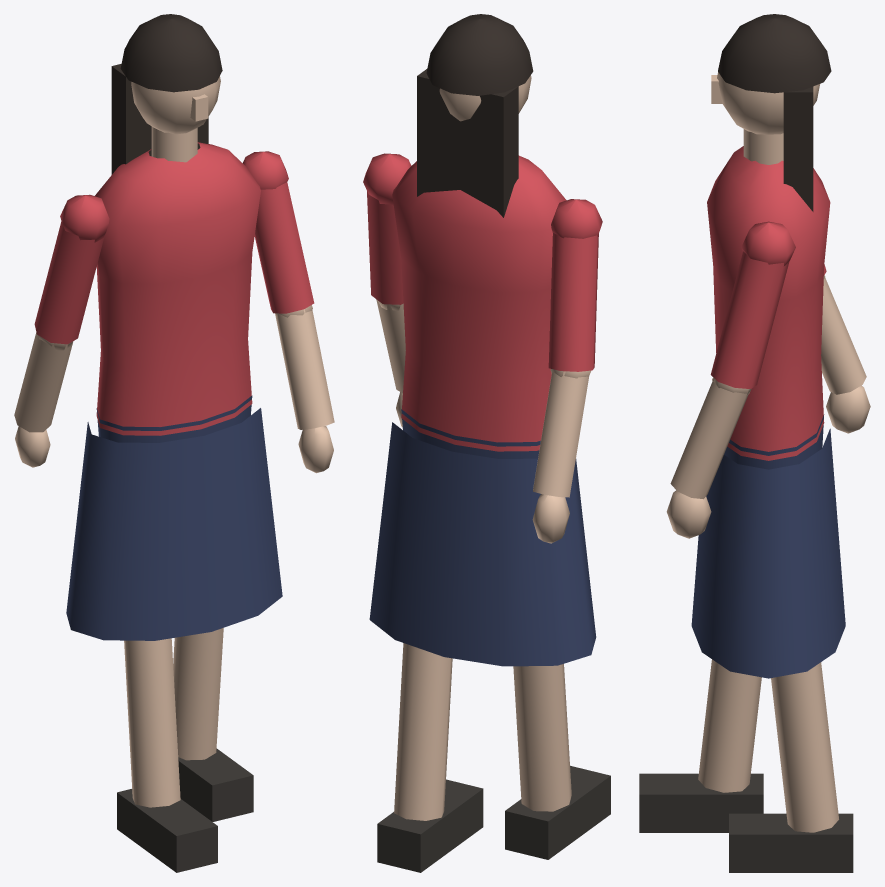
File: person_b.glb
The picture shows the model from 3 angles, left to right: view 1: azimuth 30°, elevation 25°; view 2: azimuth 150°, elevation 25°; view 3: azimuth 270°, elevation 25°; orthographic projection. The views are drawn at different scales.
Parts seen in each view (by area): view 1: person; view 2: person; view 3: person.
Boxes of the visible parts, left/top/right/bottom form: person: left=14, top=14, right=334, bottom=872; person: left=363, top=14, right=610, bottom=872; person: left=639, top=14, right=870, bottom=872.
Bounding box in the file's own units: 0.0293 × 0.0914 × 0.0233.
